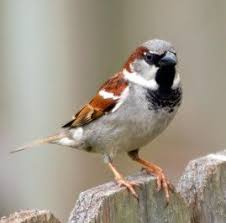hsparrow: (7, 35, 190, 207)
